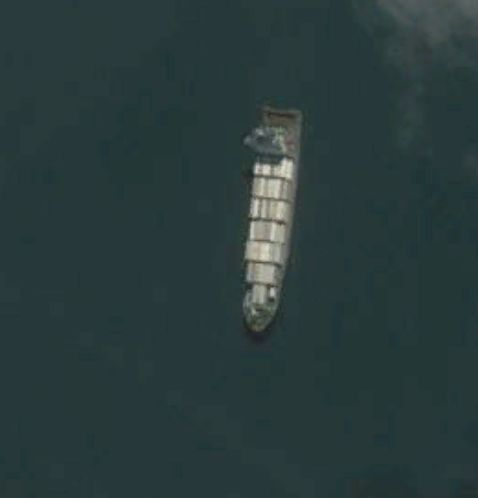boat: (239, 100, 304, 336)
